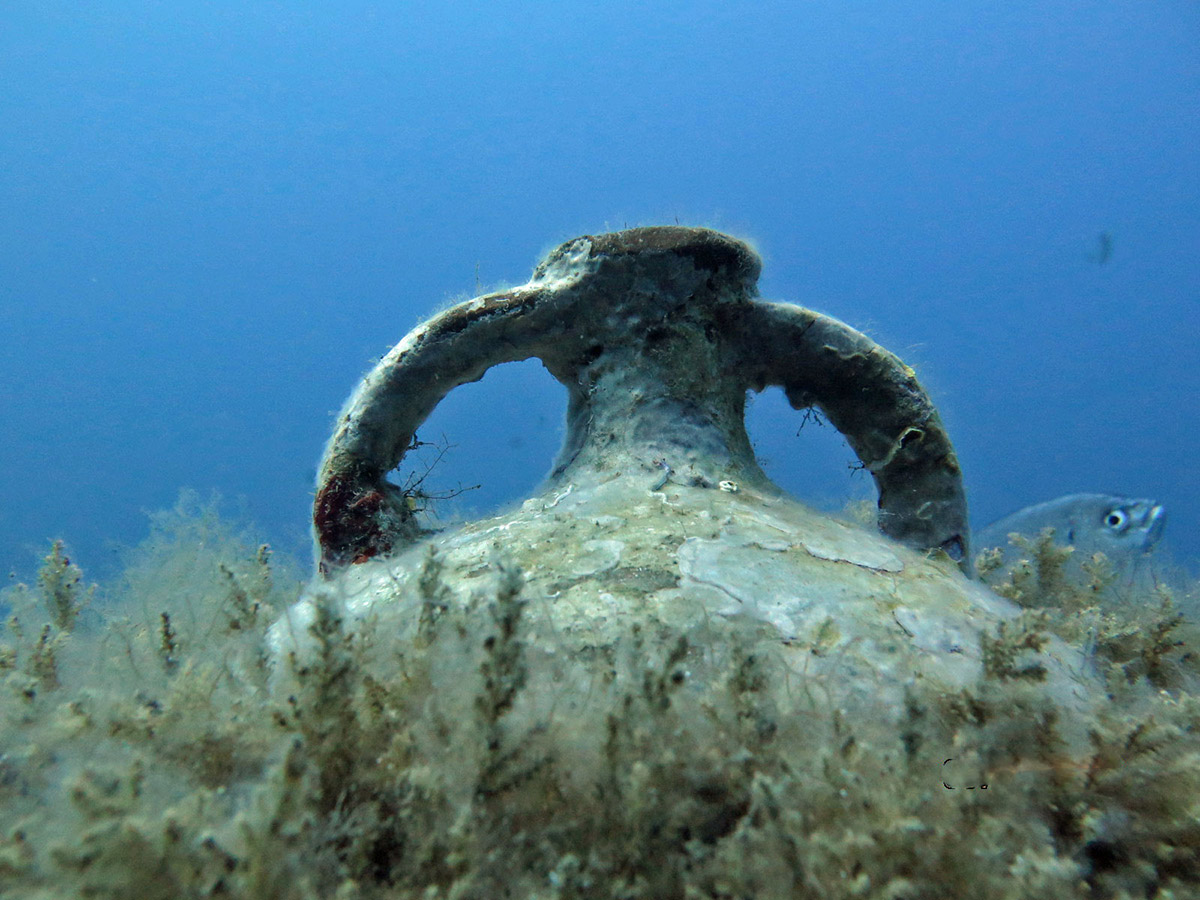amphora: (244, 207, 1129, 847)
